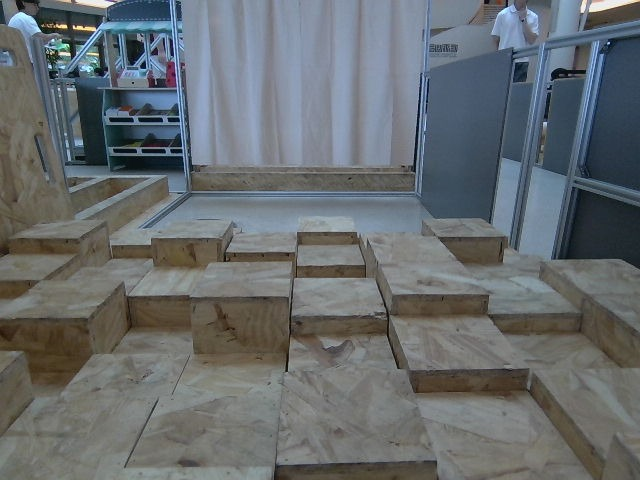curtain: (186, 0, 426, 170)
